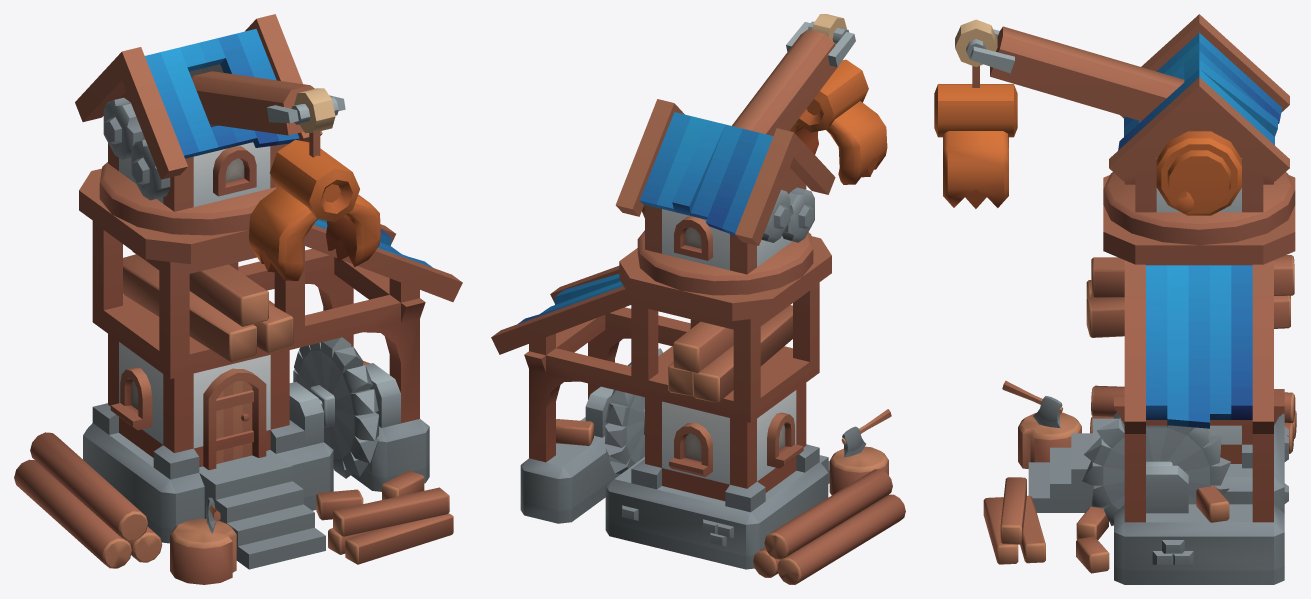
File: kaykit-medieval-hexagon-pack-building-lumbermill-blue.glb
3 renders of one model, left to right at view 1: azimuth 30°, elevation 25°; view 2: azimuth 150°, elevation 25°; view 3: azimuth 270°, elevation 25°, orthographic. The views are drawn at different scales.
Parts seen in each view (by area): view 1: building_lumbermill_blue, building_lumbermill_top_blue, building_lumbermill_saw_blue; view 2: building_lumbermill_blue, building_lumbermill_top_blue, building_lumbermill_saw_blue; view 3: building_lumbermill_blue, building_lumbermill_top_blue, building_lumbermill_saw_blue.
Part boxes in pixels (x1,y1,x2,y2): building_lumbermill_blue: [14, 168, 462, 584]; building_lumbermill_top_blue: [75, 14, 380, 280]; building_lumbermill_saw_blue: [293, 337, 378, 478]; building_lumbermill_blue: [491, 236, 905, 584]; building_lumbermill_top_blue: [615, 14, 887, 295]; building_lumbermill_saw_blue: [605, 348, 662, 474]; building_lumbermill_blue: [983, 175, 1296, 584]; building_lumbermill_top_blue: [934, 14, 1295, 245]; building_lumbermill_saw_blue: [1082, 417, 1231, 525].
Bounding box in the file's own units: 1.37 × 1.71 × 1.19.
1 material, 1 textured.
